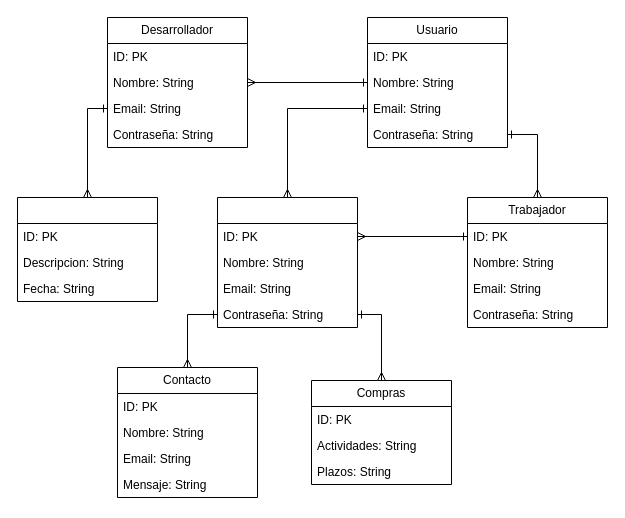
Some shapes in this 625 by 518 pixel diagram are drawn without their labels. Here are the shapes that lost their labels. From the top down, the box of each, then its label:
(16, 196, 158, 302): Avisos
(216, 196, 358, 328): Cliente
